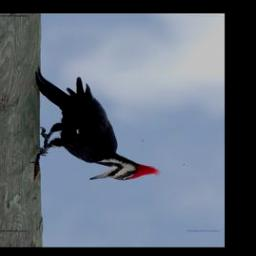Woodpecker: (30, 68, 161, 182)
